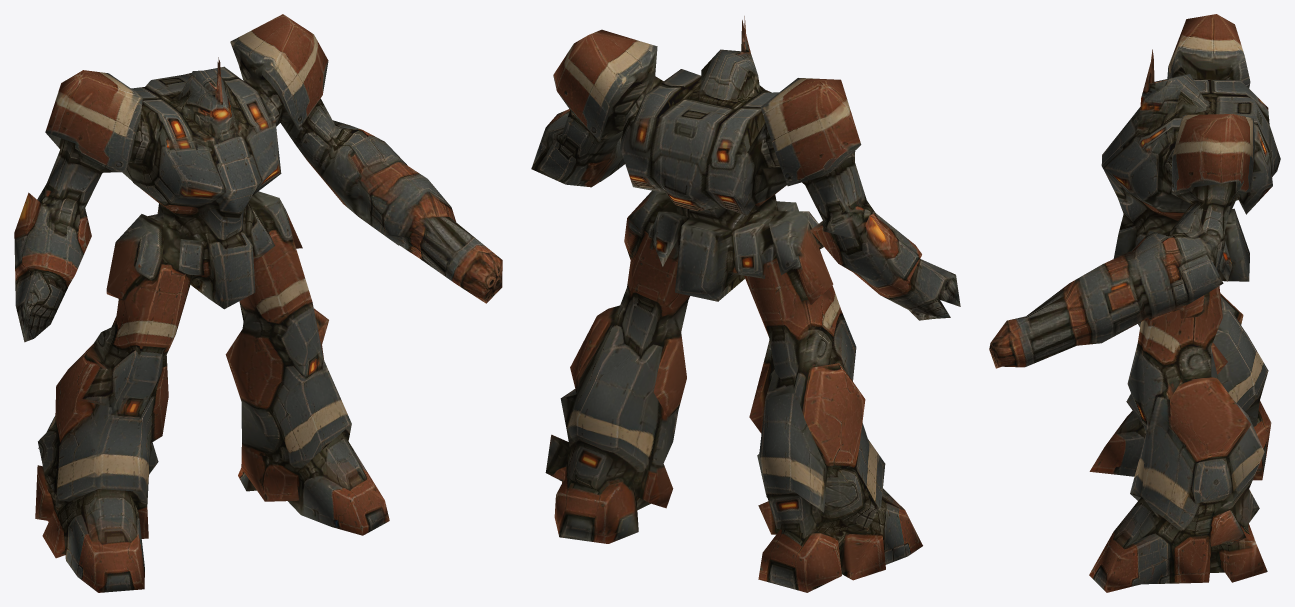
File: basalt.glb
3 views of the same model, side by side, from view 1: azimuth 30°, elevation 25°; view 2: azimuth 150°, elevation 25°; view 3: azimuth 270°, elevation 25° (orthographic). The views are drawn at different scales.
Visible parts, largest first — view 1: tripo_node_32ce78bd-7b59-4149-aaa2-d96cd4904eeb; view 2: tripo_node_32ce78bd-7b59-4149-aaa2-d96cd4904eeb; view 3: tripo_node_32ce78bd-7b59-4149-aaa2-d96cd4904eeb.
Part boxes in pixels (x1,y1,x2,y2): tripo_node_32ce78bd-7b59-4149-aaa2-d96cd4904eeb: (14, 14, 502, 592); tripo_node_32ce78bd-7b59-4149-aaa2-d96cd4904eeb: (531, 16, 960, 592); tripo_node_32ce78bd-7b59-4149-aaa2-d96cd4904eeb: (989, 14, 1280, 592).
Bounding box in the file's own units: 0.8614 × 0.9767 × 0.5446.
1 material, 1 textured.
